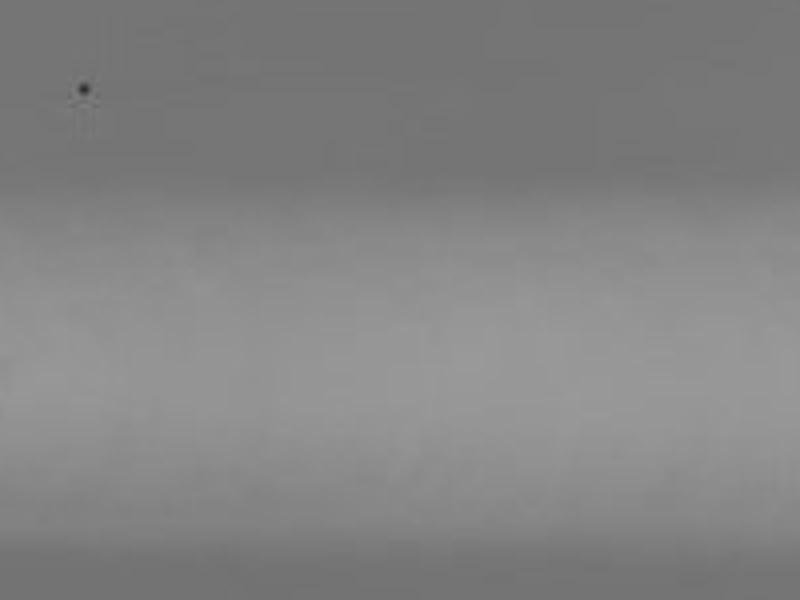defect: (78, 80, 93, 96)
